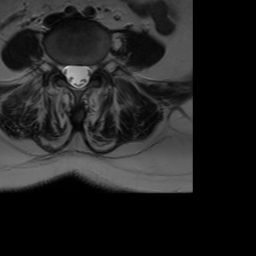CCS_normal: (72, 56, 83, 97)
LFS_normal: (92, 53, 101, 78)
LLS_normal: (83, 56, 92, 90)
RFS_stenosis: (53, 50, 62, 79)
RLS_normal: (62, 55, 72, 90)
